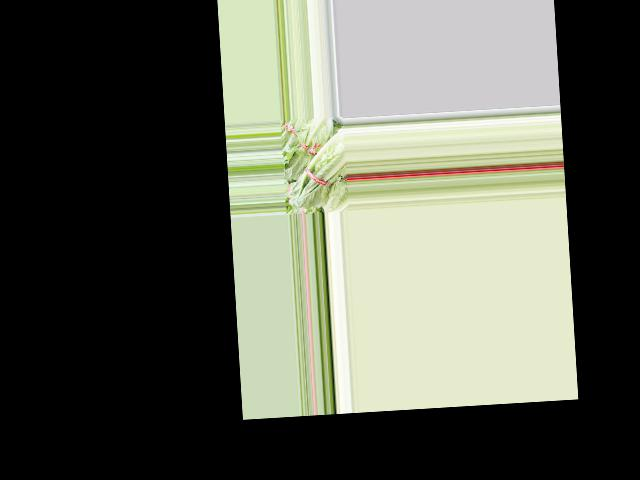lettuce: (284, 129, 349, 210)
